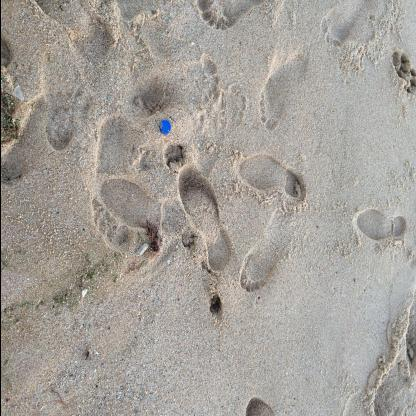plastik: (160, 120, 172, 136)
